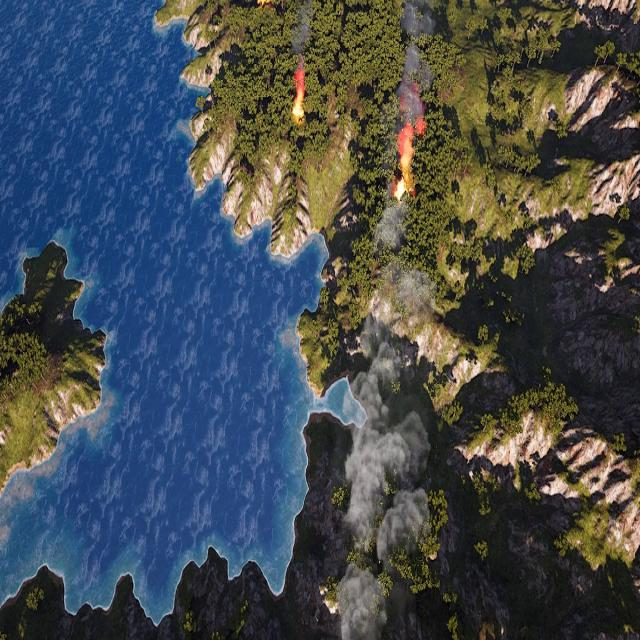fire: (395, 132, 418, 198), (290, 96, 306, 120)
smoke: (393, 0, 439, 129), (288, 0, 315, 89)
